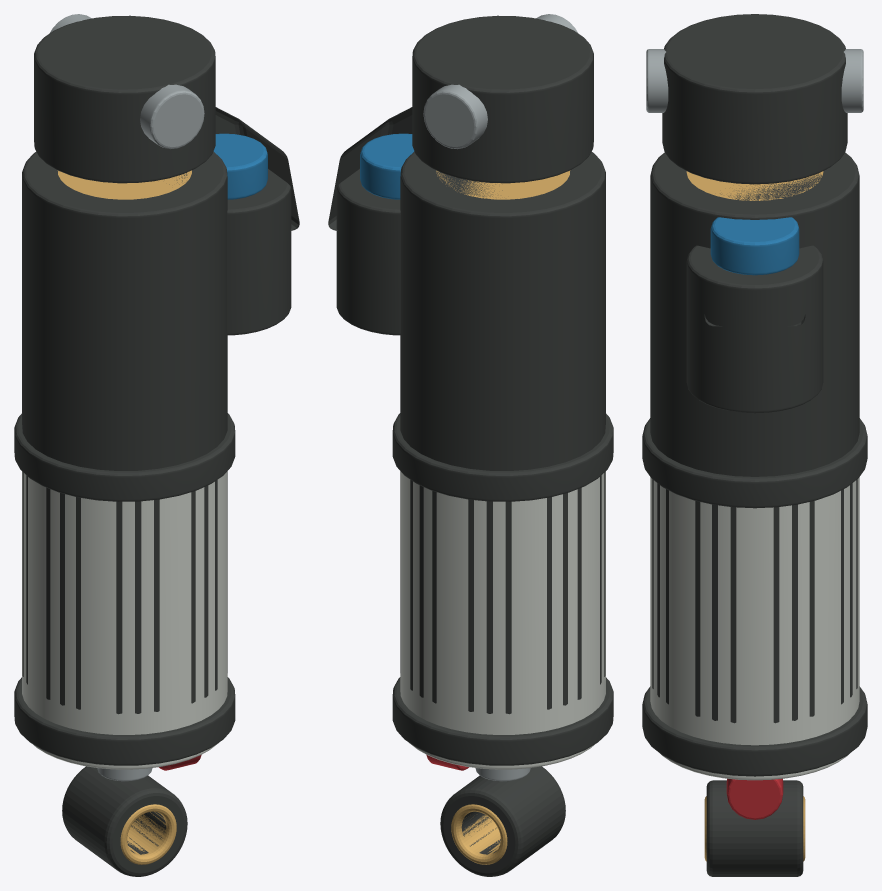
Rendered from fox-float-x2-factory-my26--dba811af.glb.
The picture shows the model from 3 angles, left to right: view 1: azimuth 30°, elevation 25°; view 2: azimuth 150°, elevation 25°; view 3: azimuth 270°, elevation 25°; orthographic projection.
Parts seen in each view (by area): view 1: fox-float-x2-factory-my26--dba811af__link, fox-float-x2-factory-my26--dba811af__frame, fox-float-x2-factory-my26--dba811af__stanchions, fox-float-x2-factory-my26--dba811af__bolts, fox-float-x2-factory-my26--dba811af__adjuster; view 2: fox-float-x2-factory-my26--dba811af__link, fox-float-x2-factory-my26--dba811af__frame, fox-float-x2-factory-my26--dba811af__stanchions, fox-float-x2-factory-my26--dba811af__bolts, fox-float-x2-factory-my26--dba811af__adjuster; view 3: fox-float-x2-factory-my26--dba811af__link, fox-float-x2-factory-my26--dba811af__frame, fox-float-x2-factory-my26--dba811af__adjuster, fox-float-x2-factory-my26--dba811af__bolts, fox-float-x2-factory-my26--dba811af__stanchions, fox-float-x2-factory-my26--dba811af__rebound.
Part boxes in pixels (box(x1,y1,x2,y2)): fox-float-x2-factory-my26--dba811af__link: box(14, 15, 299, 876); fox-float-x2-factory-my26--dba811af__frame: box(22, 471, 227, 769); fox-float-x2-factory-my26--dba811af__stanchions: box(57, 170, 191, 864); fox-float-x2-factory-my26--dba811af__bolts: box(49, 14, 204, 781); fox-float-x2-factory-my26--dba811af__adjuster: box(213, 133, 267, 199); fox-float-x2-factory-my26--dba811af__link: box(328, 15, 613, 876); fox-float-x2-factory-my26--dba811af__frame: box(400, 471, 605, 769); fox-float-x2-factory-my26--dba811af__stanchions: box(436, 170, 570, 864); fox-float-x2-factory-my26--dba811af__bolts: box(423, 14, 578, 781); fox-float-x2-factory-my26--dba811af__adjuster: box(360, 133, 414, 199); fox-float-x2-factory-my26--dba811af__link: box(642, 14, 867, 876); fox-float-x2-factory-my26--dba811af__frame: box(650, 477, 859, 780); fox-float-x2-factory-my26--dba811af__adjuster: box(710, 217, 799, 275); fox-float-x2-factory-my26--dba811af__bolts: box(646, 49, 863, 112); fox-float-x2-factory-my26--dba811af__stanchions: box(686, 171, 823, 861); fox-float-x2-factory-my26--dba811af__rebound: box(726, 778, 783, 819).
Bounding box in the file's own units: 0.074 × 0.225 × 0.056.
